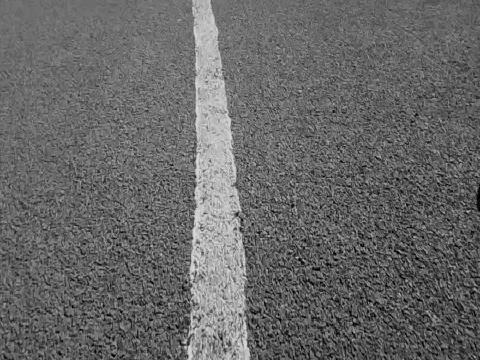Lines: (191, 0, 253, 360)
